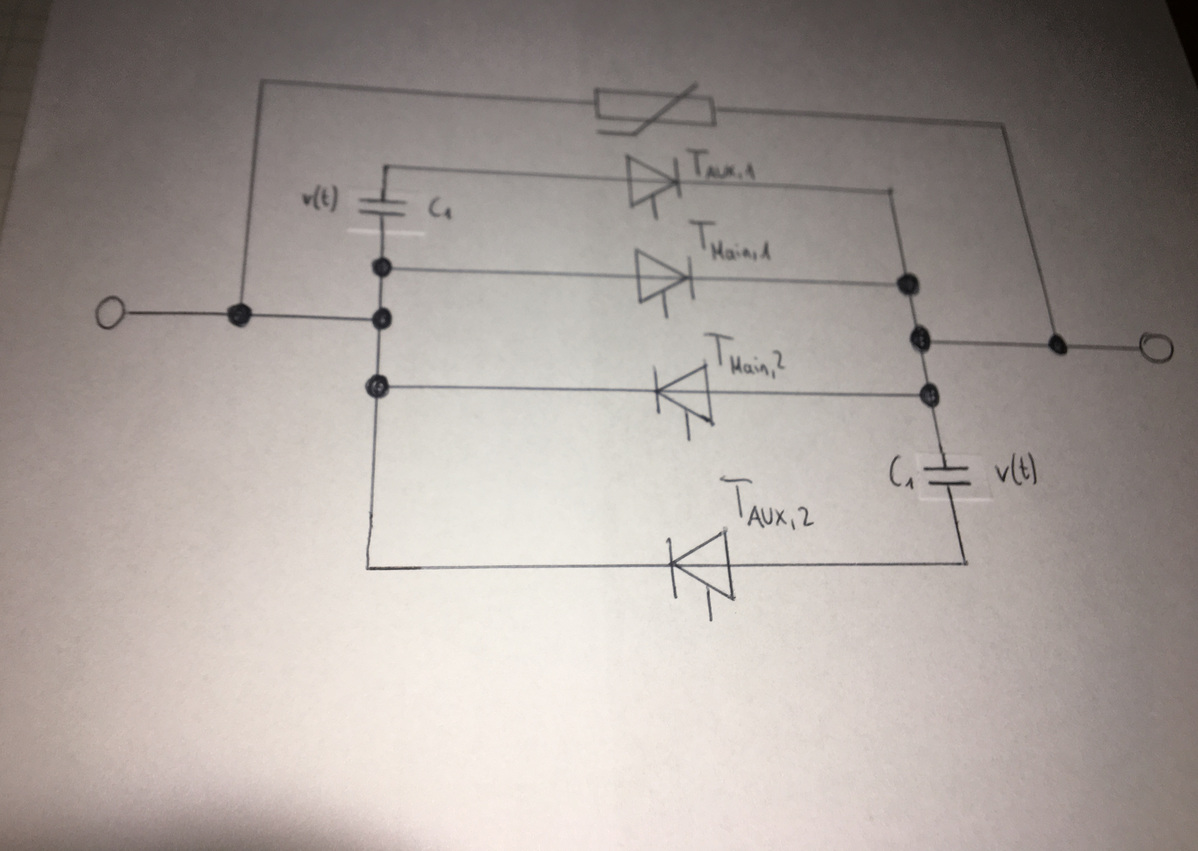capacitor.unpolarized: (921, 461, 976, 491), (354, 194, 412, 221)
junction: (225, 300, 255, 330), (363, 372, 392, 401), (908, 324, 934, 355), (917, 380, 943, 410), (895, 270, 922, 298), (370, 305, 395, 332), (370, 255, 395, 279), (1047, 332, 1070, 357), (882, 181, 898, 199), (958, 557, 973, 570), (257, 75, 271, 88), (380, 161, 394, 174), (361, 562, 374, 576), (995, 119, 1009, 132)
terminal: (92, 293, 133, 333), (1137, 330, 1175, 365)
text: (717, 473, 816, 531), (702, 329, 786, 379), (686, 216, 773, 264), (682, 145, 758, 182), (991, 449, 1042, 490), (299, 181, 341, 214), (886, 453, 919, 491), (427, 195, 454, 221)
thyristor: (663, 524, 739, 609), (649, 358, 718, 432), (631, 243, 699, 310), (621, 149, 686, 212)
varistor: (590, 79, 721, 141)
